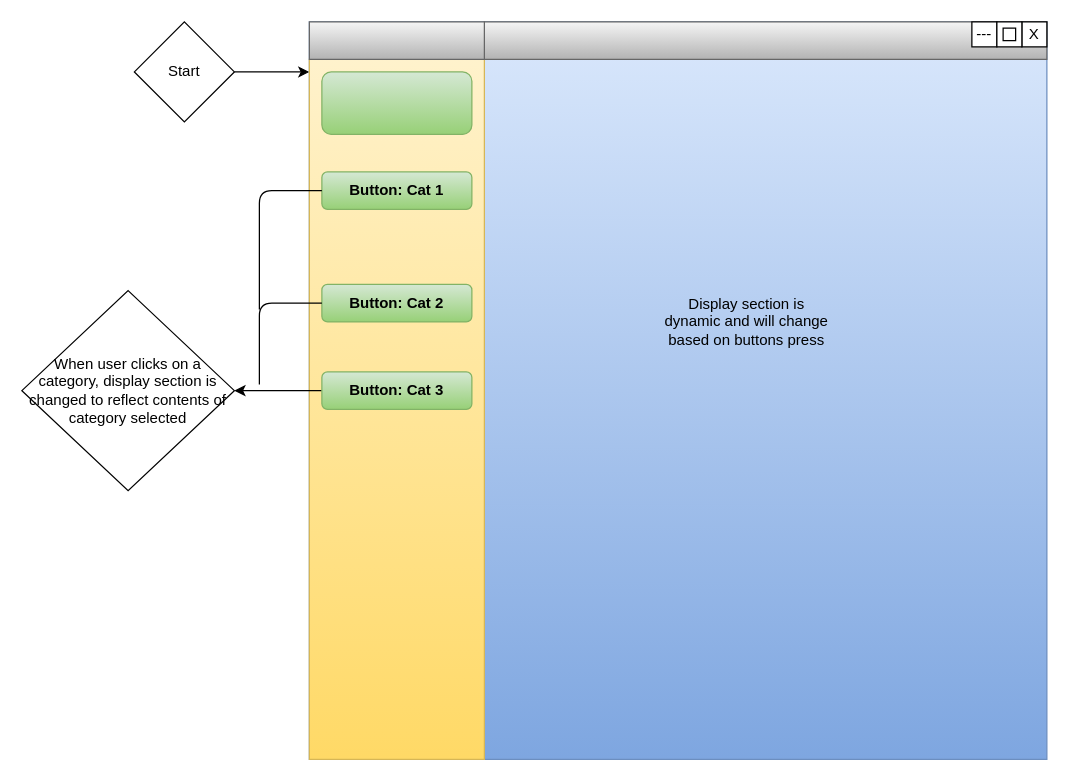
Some shapes in this 1069 by 781 pixel diagram are drawn without their labels. Each missing label, with the box of its shape:
Button: Options to create/edit categories: (321, 71, 472, 134)
Header O - Categories/devices: (308, 21, 484, 59)
Header O - Should show Title of Section(?): (483, 21, 1047, 59)
